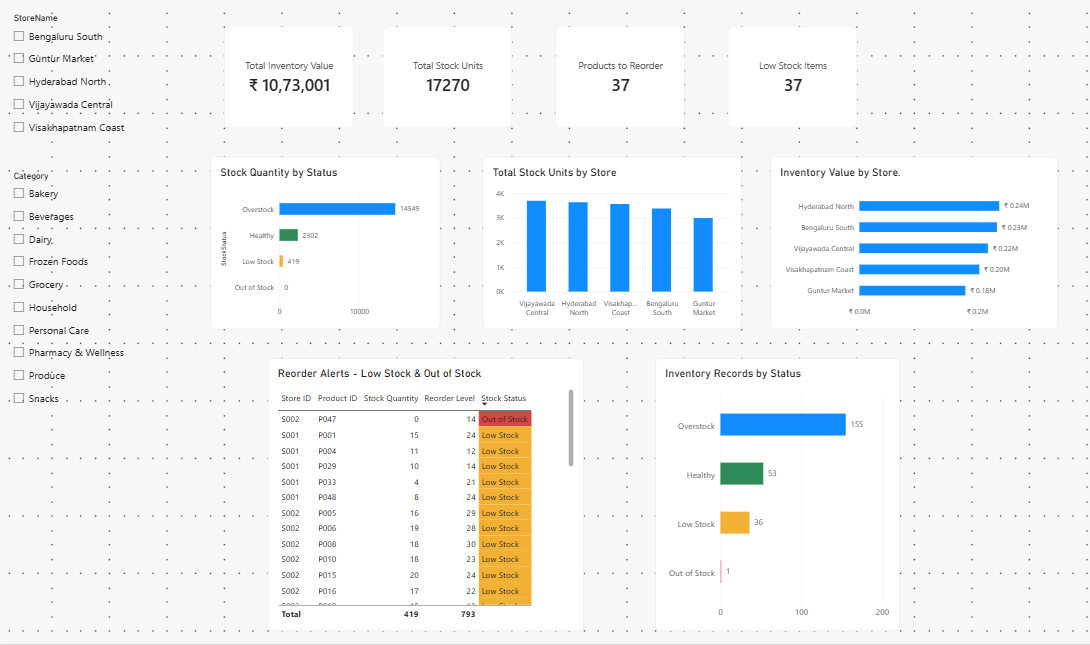

What the dashboard file says about the page in this screenshot:
{"tool":"powerbi","page":{"name":"Inventory Analysis","canvas":[1920,1080],"ordinal":2},"visuals":[{"type":"cardVisual","fields":{"Data":["Inventory.Total Inventory Value"]},"box":[384,48,216,168],"z":0},{"type":"cardVisual","fields":{"Data":["Inventory.Total Stock Units"]},"box":[648,48,216,168],"z":1000},{"type":"cardVisual","fields":{"Data":["Inventory.Products to Reorder"]},"box":[936,48,216,168],"z":2000},{"type":"cardVisual","fields":{"Data":["Inventory.Low Stock Items"]},"box":[1224,48,216,168],"z":3000},{"type":"clusteredBarChart","title":"Stock Quantity by Status","fields":{"Category":["Inventory.StockStatus"],"Y":["Inventory.Total Stock Units"]},"box":[360,264,384,288],"z":4000},{"type":"slicer","fields":{"Values":["Stores.StoreName"]},"box":[24,24,288,288],"z":5000},{"type":"clusteredColumnChart","title":"Total Stock Units by Store","fields":{"Category":["Stores.StoreName"],"Y":["Sum(Inventory.StockQuantity)"]},"box":[816,264,432,288],"z":6000},{"type":"clusteredBarChart","title":"Inventory Value by Store.","fields":{"Category":["Stores.StoreName"],"Y":["Sum(Inventory.InventoryValueAtCostINR)"]},"box":[1296,264,480,288],"z":7000},{"type":"tableEx","title":"Reorder Alerts - Low Stock & Out of Stock","fields":{"Values":["Stores.StoreID","Inventory.ProductID","Sum(Inventory.StockQuantity)","Sum(Inventory.ReorderLevel)","Inventory.StockStatus"]},"box":[456,600,528,456],"z":7001},{"type":"clusteredBarChart","title":"Inventory Records by Status","fields":{"Category":["Inventory.StockStatus"],"Y":["CountNonNull(Inventory.ProductID)"]},"box":[1104,600,408,456],"z":7002},{"type":"slicer","fields":{"Values":["Products.Category"]},"box":[24,288,264,408],"z":7003}]}

Visuals, with their boxes on the page's 1920x1080 design canvas (x1, y1, x2, y2). These are canvas units, not pixel positions in the 1090x645 screenshot, which may show the page scaled, cropped or inside an application window:
cardVisual - Inventory.Total Inventory Value: <region>384, 48, 600, 216</region>
cardVisual - Inventory.Total Stock Units: <region>648, 48, 864, 216</region>
cardVisual - Inventory.Products to Reorder: <region>936, 48, 1152, 216</region>
cardVisual - Inventory.Low Stock Items: <region>1224, 48, 1440, 216</region>
"Stock Quantity by Status" clusteredBarChart: <region>360, 264, 744, 552</region>
slicer - Stores.StoreName: <region>24, 24, 312, 312</region>
"Total Stock Units by Store" clusteredColumnChart: <region>816, 264, 1248, 552</region>
"Inventory Value by Store." clusteredBarChart: <region>1296, 264, 1776, 552</region>
"Reorder Alerts - Low Stock & Out of Stock" tableEx: <region>456, 600, 984, 1056</region>
"Inventory Records by Status" clusteredBarChart: <region>1104, 600, 1512, 1056</region>
slicer - Products.Category: <region>24, 288, 288, 696</region>
